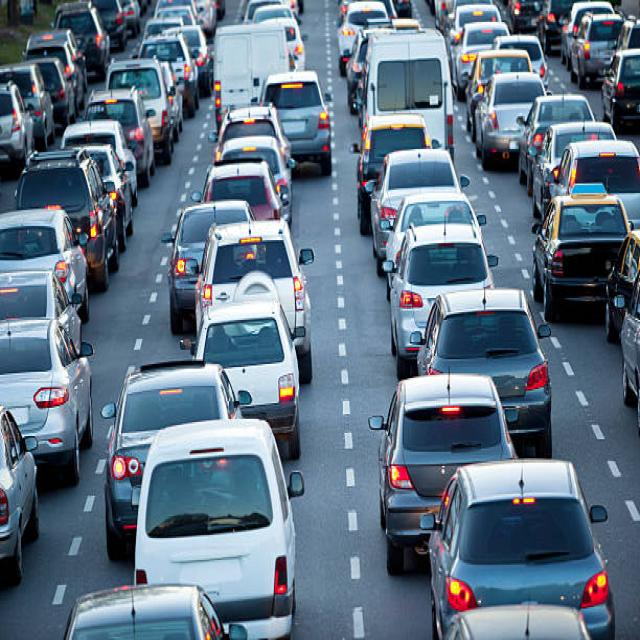Car: (132, 418, 304, 638), (419, 458, 616, 638), (367, 372, 518, 574), (100, 358, 242, 560), (416, 287, 552, 458), (193, 218, 314, 383), (190, 300, 302, 460), (388, 223, 498, 378), (0, 317, 94, 485), (531, 192, 633, 322), (160, 198, 255, 334), (382, 190, 486, 301), (0, 206, 90, 323), (62, 582, 246, 638), (530, 121, 616, 221), (517, 92, 596, 194), (553, 138, 639, 231), (260, 69, 332, 174), (0, 268, 82, 356), (474, 70, 547, 168), (0, 405, 39, 580), (190, 158, 282, 223), (603, 227, 639, 342), (601, 47, 639, 130), (620, 270, 639, 436)
